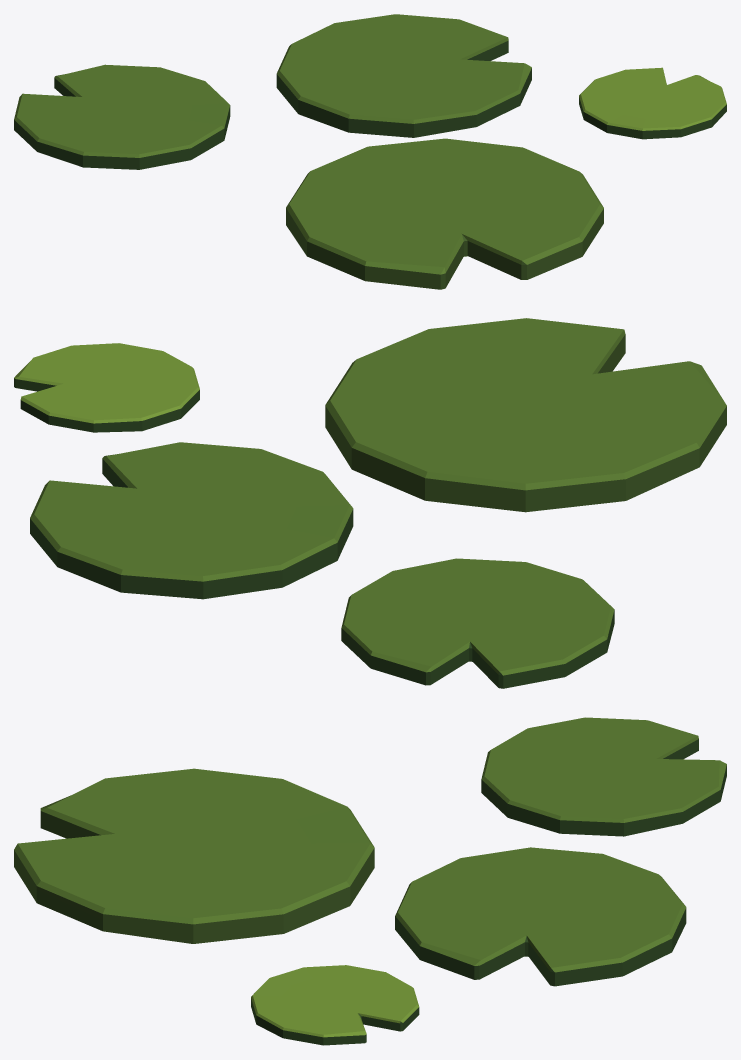
File: Nénuphare_V3fbx.fbx
3 renders of one model, top to bottom at view 1: azimuth 30°, elevation 25°; view 2: azimuth 150°, elevation 25°; view 3: azimuth 270°, elevation 25°, orthographic. The views are drawn at different scales.
Parts seen in each view (by area): view 1: Cylinder.008; view 2: Cylinder.008; view 3: Cylinder.008.
Part boxes in pixels (x1,y1,x2,y2): Cylinder.008: [14, 14, 726, 289]; Cylinder.008: [14, 318, 726, 688]; Cylinder.008: [14, 717, 726, 1045].
Size of the model in its own units: 449 by 16.24 by 427.
